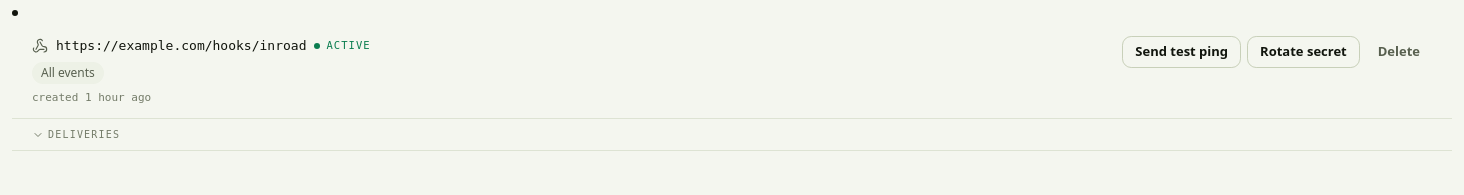
Scenario: sending a test ping surfaces that the delivery was queued
The image size is (1464, 195).
Click the button "Send test ping" at x=1182, y=52, box [1122,36,1241,68]
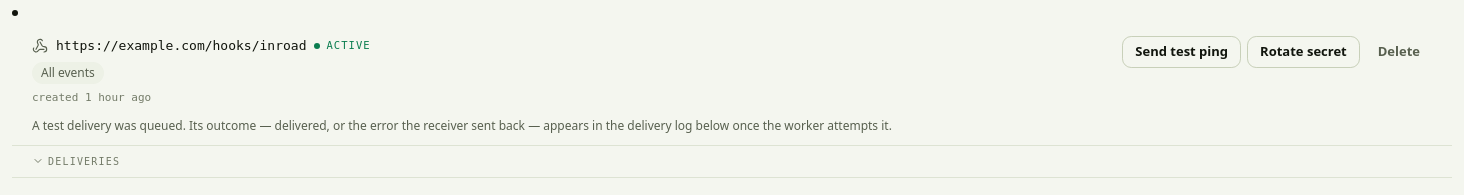
Expected: the message shows "test delivery was queued", [32,117,892,134]
